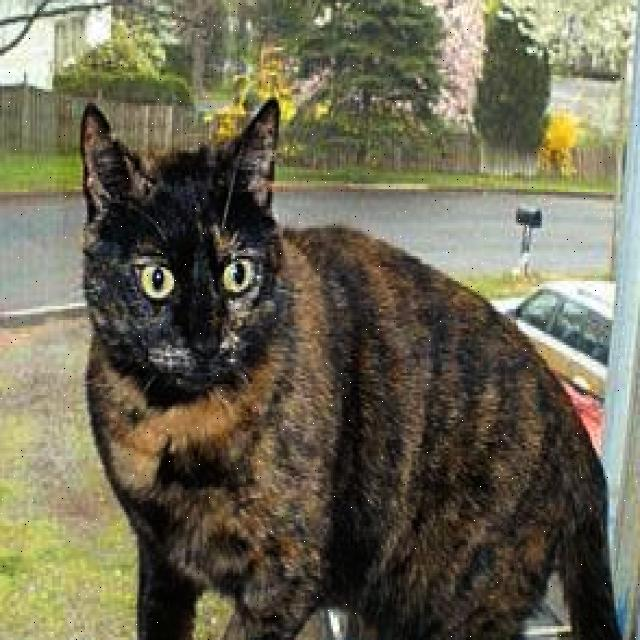Cat: (67, 88, 304, 411)
